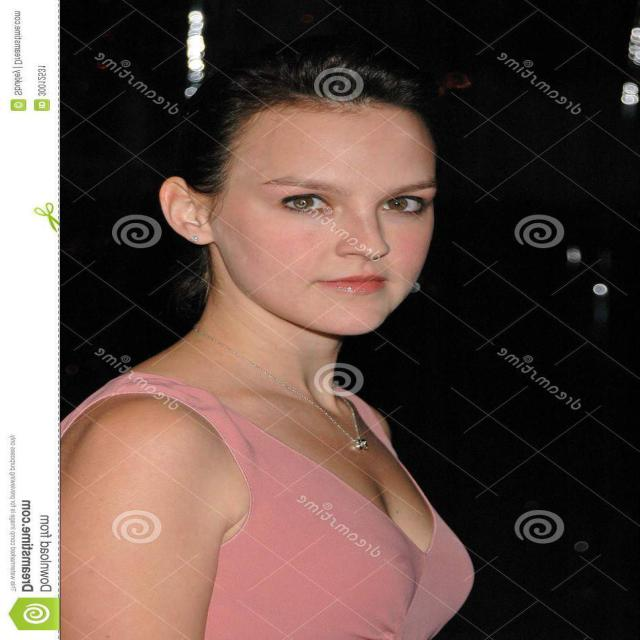no-earmuff: (139, 166, 237, 254)
